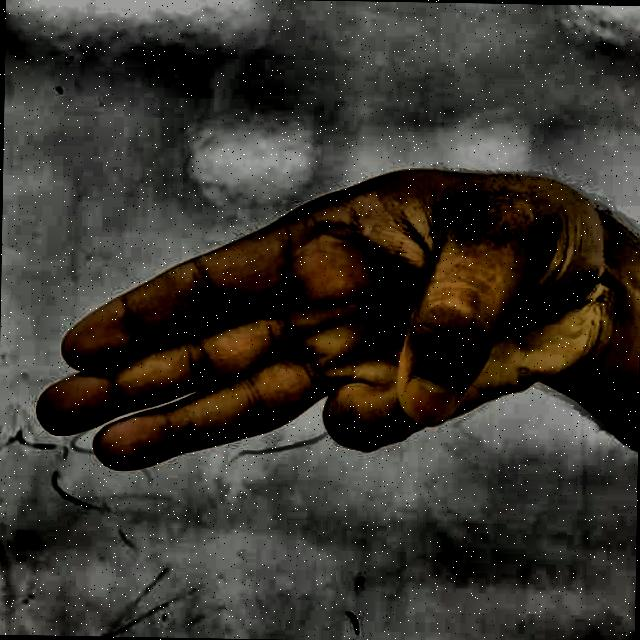Ma: (13, 150, 626, 522)
